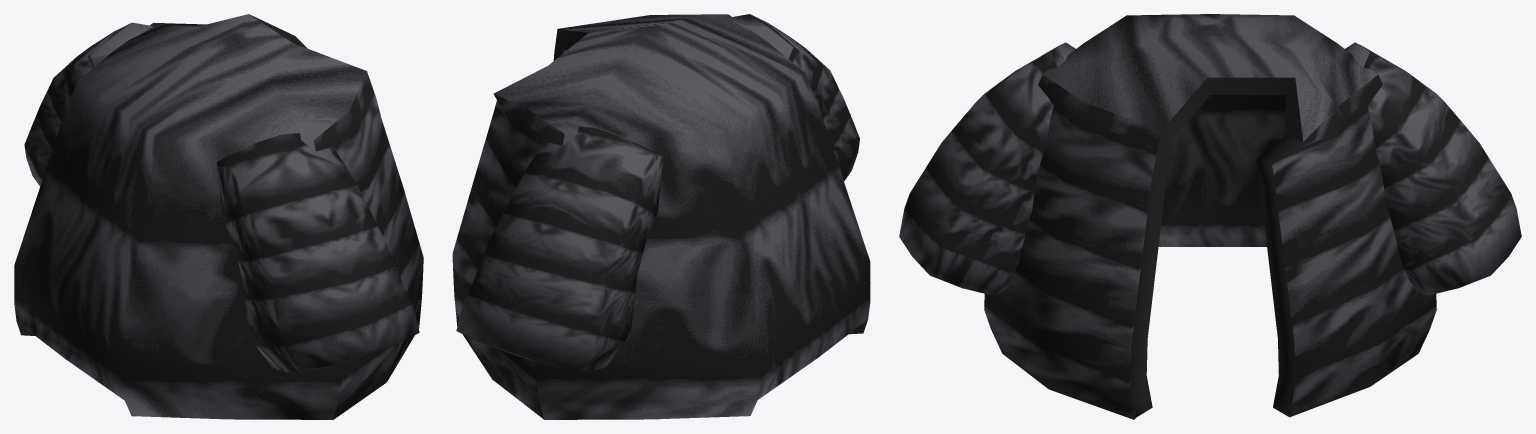
Rendered from Puffer.glb.
The picture shows the model from 3 angles, left to right: view 1: azimuth 30°, elevation 25°; view 2: azimuth 150°, elevation 25°; view 3: azimuth 270°, elevation 25°; orthographic projection. The views are drawn at different scales.
Visible parts, largest first — view 1: Puffer; view 2: Puffer; view 3: Puffer.
Part boxes in pixels (x1=…): Puffer: x1=14, y1=14, x2=423, y2=419; Puffer: x1=452, y1=14, x2=870, y2=419; Puffer: x1=899, y1=14, x2=1521, y2=419.
Bounding box in the file's own units: 1.65 × 1.61 × 2.66.
Materials: 1 (1 with a texture image).
